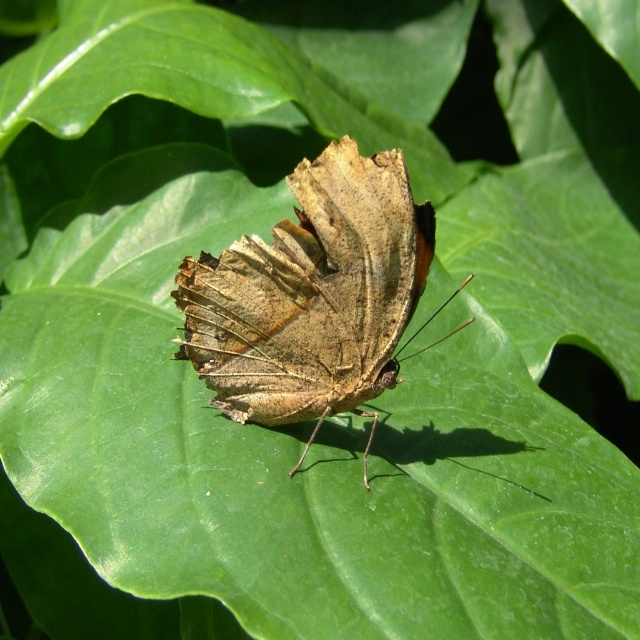Butterfly: (166, 136, 476, 489)
